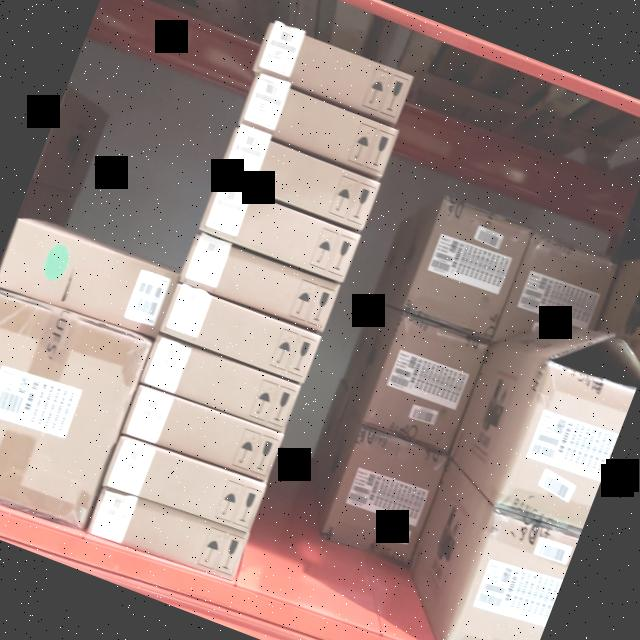box: (0, 283, 151, 532), (0, 220, 176, 335), (322, 427, 448, 566), (365, 316, 488, 454), (406, 200, 530, 336), (180, 232, 340, 336), (238, 77, 399, 180), (218, 130, 380, 232), (105, 434, 266, 536), (255, 23, 412, 124), (143, 334, 300, 434), (200, 183, 360, 281), (125, 386, 282, 482), (162, 286, 320, 380), (89, 490, 245, 580)
